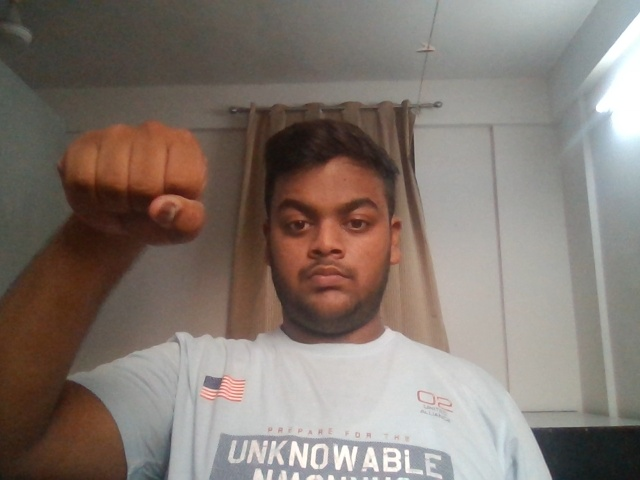Yes: (12, 78, 222, 314)
